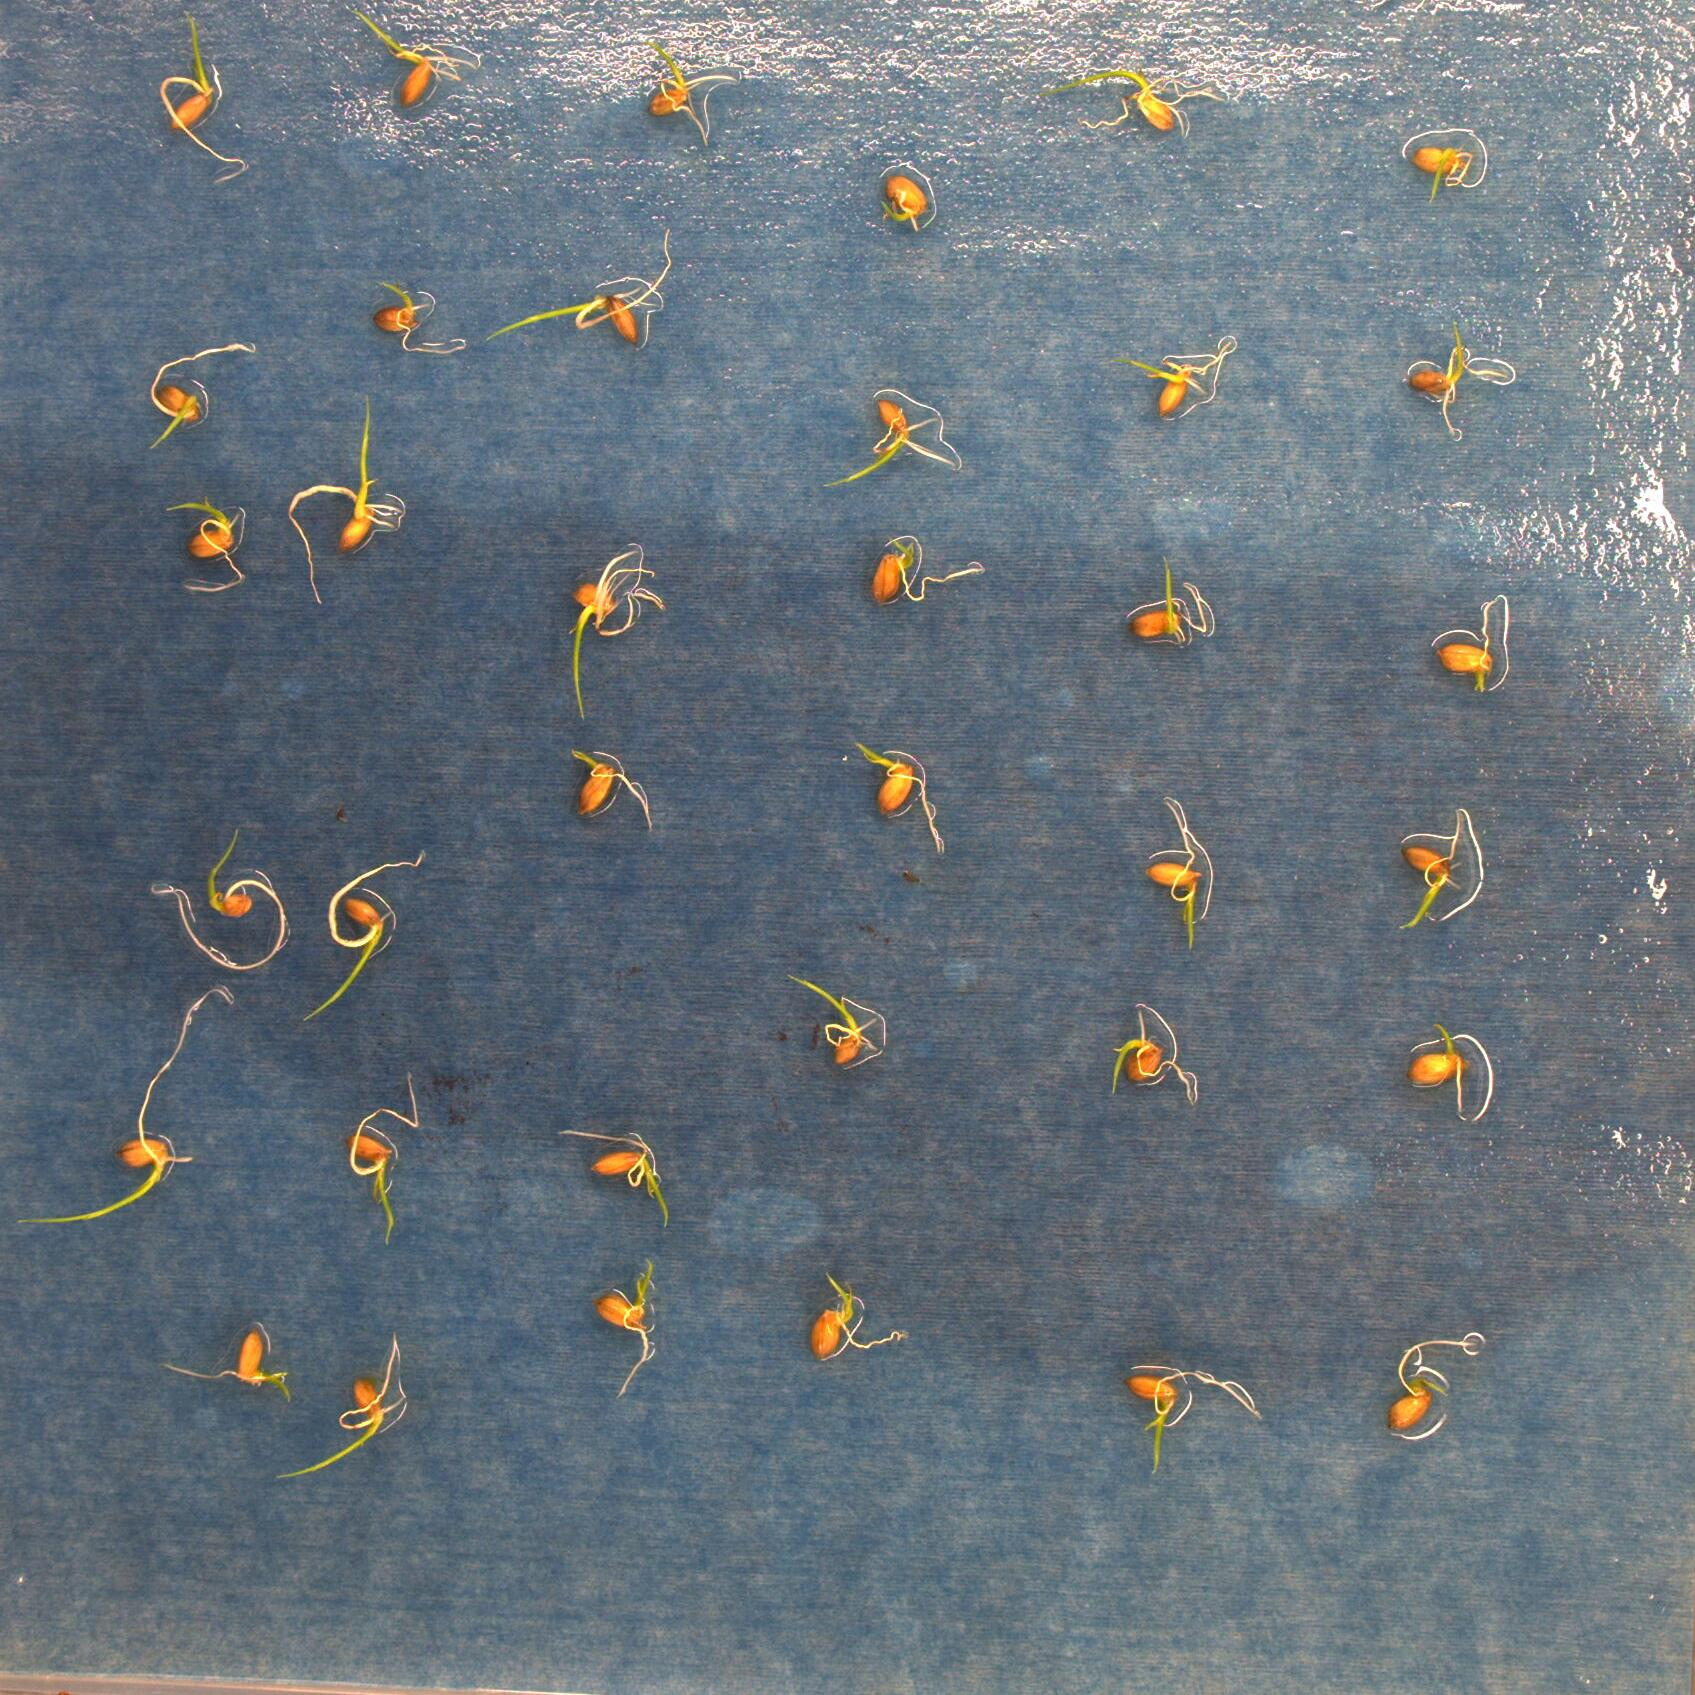sprout: (17, 984, 233, 1226), (287, 393, 404, 610), (486, 228, 674, 346), (300, 852, 425, 1023), (152, 830, 286, 972), (276, 1333, 397, 1479), (573, 546, 664, 719), (1122, 1371, 1263, 1475), (161, 17, 248, 185), (343, 1071, 421, 1245), (348, 9, 478, 107), (821, 397, 958, 490), (1409, 320, 1510, 439), (1043, 70, 1226, 135), (557, 1125, 671, 1229), (147, 340, 255, 449), (1099, 337, 1229, 418), (161, 1326, 293, 1403), (646, 37, 737, 144), (1142, 795, 1205, 951), (858, 744, 944, 854), (591, 1256, 655, 1399), (1385, 1340, 1478, 1433), (787, 972, 879, 1066), (809, 1270, 903, 1361), (1108, 1007, 1194, 1105), (1397, 810, 1464, 931), (869, 536, 984, 605), (165, 497, 245, 594), (371, 279, 466, 355), (570, 747, 653, 832), (1132, 554, 1208, 647), (1434, 594, 1499, 694), (1406, 1024, 1471, 1121), (1414, 144, 1475, 203), (880, 172, 928, 234)
